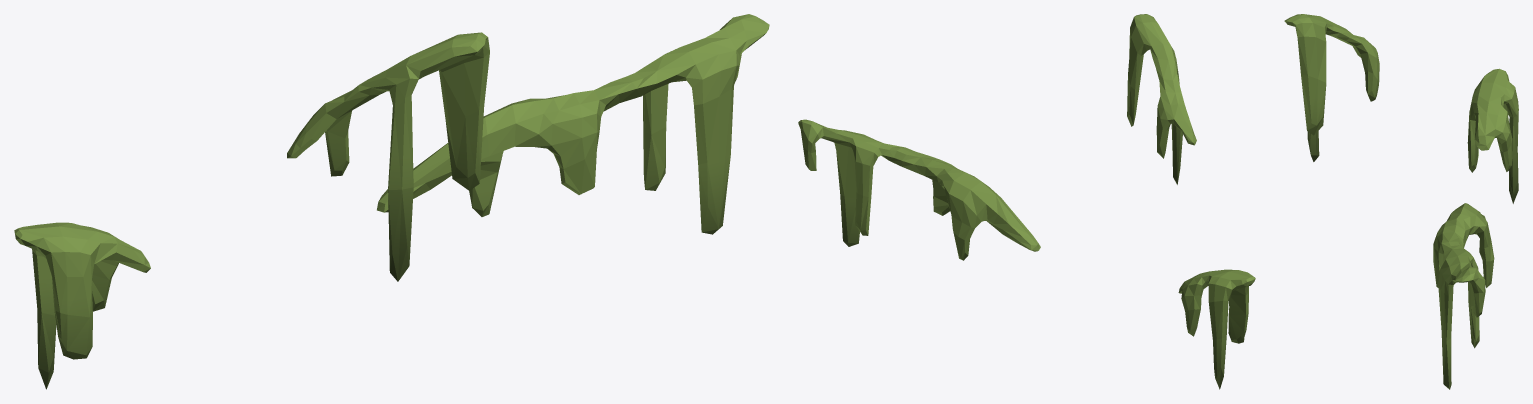
File: JungleTree_Lrg_A_Grass.fbx
3 views of the same model, side by side, from view 1: azimuth 30°, elevation 25°; view 2: azimuth 150°, elevation 25°; view 3: azimuth 270°, elevation 25° (orthographic). The views are drawn at different scales.
Visible parts, largest first — view 1: JungleTree_Lrg_A_Grass; view 2: JungleTree_Lrg_A_Grass; view 3: JungleTree_Lrg_A_Grass.
Part boxes in pixels (x1,y1,x2,y2): JungleTree_Lrg_A_Grass: (14, 14, 769, 389); JungleTree_Lrg_A_Grass: (798, 14, 1255, 389); JungleTree_Lrg_A_Grass: (1284, 14, 1518, 389).
Size of the model in its own units: 7.83 by 4.12 by 3.13.
1 material, 1 textured.
